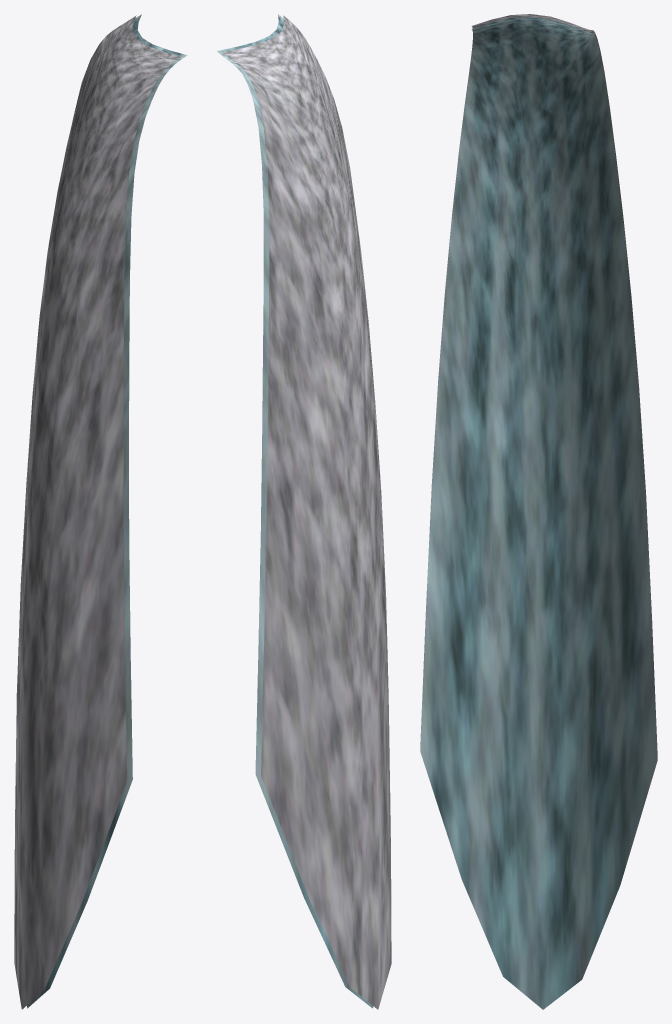
Rendered from SWORDLIGHT20_WATERFALLTOPIN.fbx.
3 views of the same model, side by side, from view 1: azimuth 30°, elevation 25°; view 2: azimuth 150°, elevation 25°; view 3: azimuth 270°, elevation 25° (orthographic). The views are drawn at different scales.
Parts seen in each view (by area): view 1: SWORDLIGHT20_WATERFALLTOPIN; view 2: SWORDLIGHT20_WATERFALLTOPIN; view 3: SWORDLIGHT20_WATERFALLTOPIN.
Boxes of the visible parts, x1,y1,x2,y2 form: SWORDLIGHT20_WATERFALLTOPIN: (14, 14, 187, 1009); SWORDLIGHT20_WATERFALLTOPIN: (216, 14, 391, 1009); SWORDLIGHT20_WATERFALLTOPIN: (420, 14, 657, 1009).
Bounding box in the file's own units: 86325 × 552394 × 112998.
Materials: 2 (2 with a texture image).
